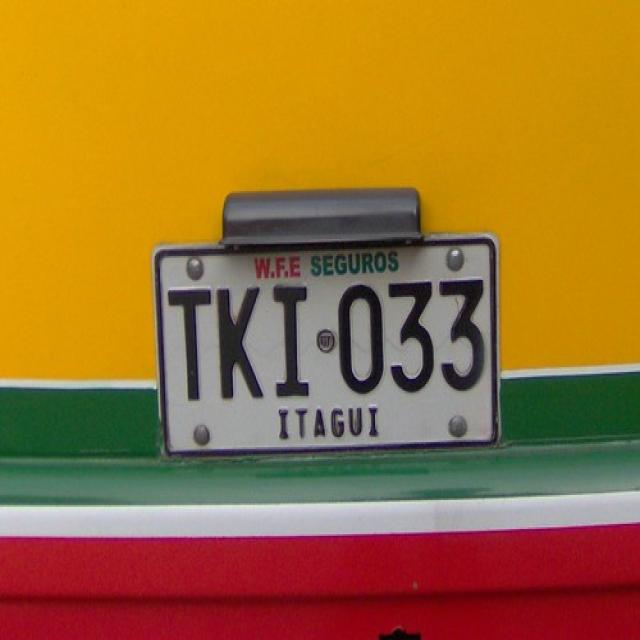placas: (166, 255, 491, 402)
